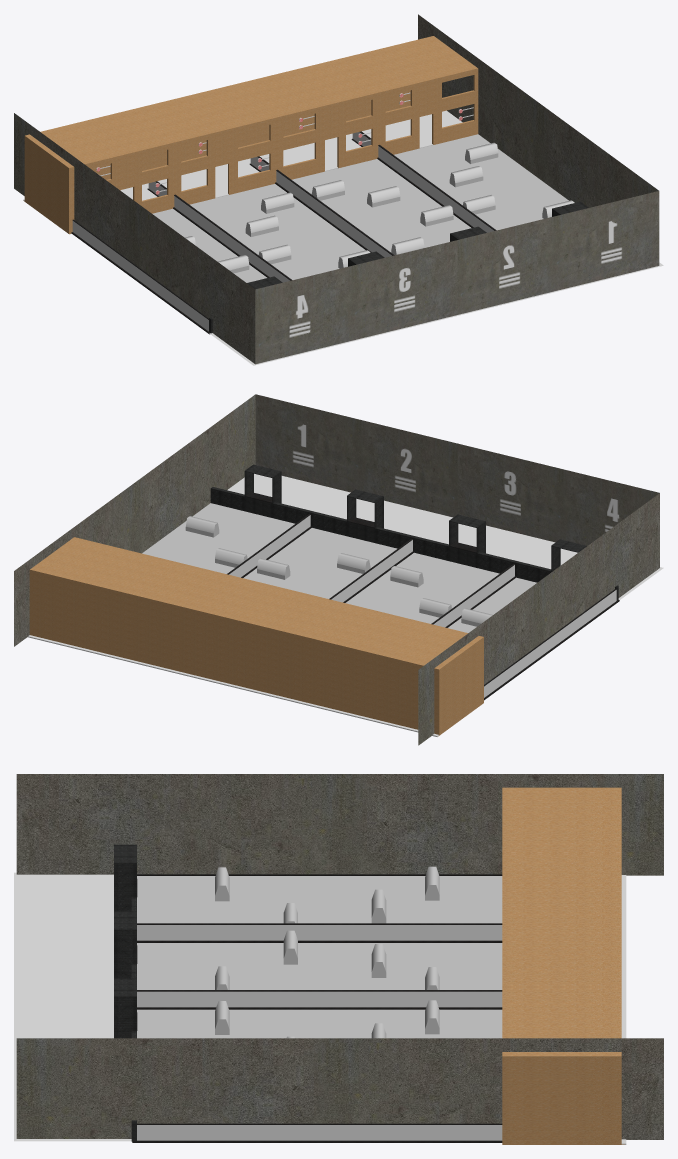
The model's file is Range.FBX.
The picture shows the model from 3 angles, top to bottom: view 1: azimuth 30°, elevation 25°; view 2: azimuth 150°, elevation 25°; view 3: azimuth 270°, elevation 25°; orthographic projection. The views are drawn at different scales.
Visible parts, largest first — view 1: Plane003, Plane002, Plane001, Box008, Box021, Box002, Box014, Box013, Box009, Box007, Box001, Plane004 (+1 smaller); view 2: Plane003, Plane002, Plane001, Box001, Plane004, Box008, Box002, Box011, Box021, Box009, Box007, Box006; view 3: Plane003, Plane001, Plane002, Box008, Plane004, Box001, Box007, Box009, Box011, Box013, Box014, Box021 (+1 smaller).
Part boxes in pixels (x1=…): Plane003: x1=14, y1=14, x2=659, y2=364; Plane002: x1=24, y1=36, x2=478, y2=234; Plane001: x1=152, y1=134, x2=568, y2=282; Box008: x1=72, y1=132, x2=494, y2=331; Box021: x1=23, y1=110, x2=462, y2=234; Box002: x1=218, y1=195, x2=495, y2=273; Box014: x1=185, y1=166, x2=483, y2=245; Box013: x1=261, y1=142, x2=498, y2=213; Box009: x1=72, y1=131, x2=496, y2=320; Box007: x1=71, y1=138, x2=473, y2=334; Box001: x1=209, y1=201, x2=588, y2=333; Plane004: x1=209, y1=262, x2=663, y2=365; Plane003: x1=14, y1=394, x2=659, y2=745; Plane002: x1=29, y1=537, x2=483, y2=736; Plane001: x1=142, y1=503, x2=536, y2=632; Box001: x1=210, y1=464, x2=618, y2=600; Plane004: x1=227, y1=473, x2=663, y2=599; Box008: x1=229, y1=515, x2=616, y2=697; Box002: x1=215, y1=548, x2=492, y2=626; Box011: x1=185, y1=516, x2=423, y2=587; Box021: x1=28, y1=635, x2=438, y2=736; Box009: x1=227, y1=513, x2=618, y2=686; Box007: x1=241, y1=526, x2=619, y2=700; Box006: x1=245, y1=492, x2=558, y2=571; Plane003: x1=16, y1=774, x2=663, y2=1139; Plane001: x1=137, y1=876, x2=502, y2=1038; Plane002: x1=502, y1=787, x2=624, y2=1144; Box008: x1=137, y1=925, x2=502, y2=1140; Plane004: x1=14, y1=872, x2=131, y2=1141; Box001: x1=114, y1=844, x2=136, y2=1141; Box007: x1=132, y1=874, x2=502, y2=1142; Box009: x1=132, y1=923, x2=502, y2=1124; Box011: x1=215, y1=867, x2=229, y2=1034; Box013: x1=425, y1=866, x2=439, y2=1034; Box014: x1=371, y1=889, x2=386, y2=1038; Box021: x1=621, y1=875, x2=626, y2=1144.
Bounding box in the file's own units: 896 × 157 × 904.
